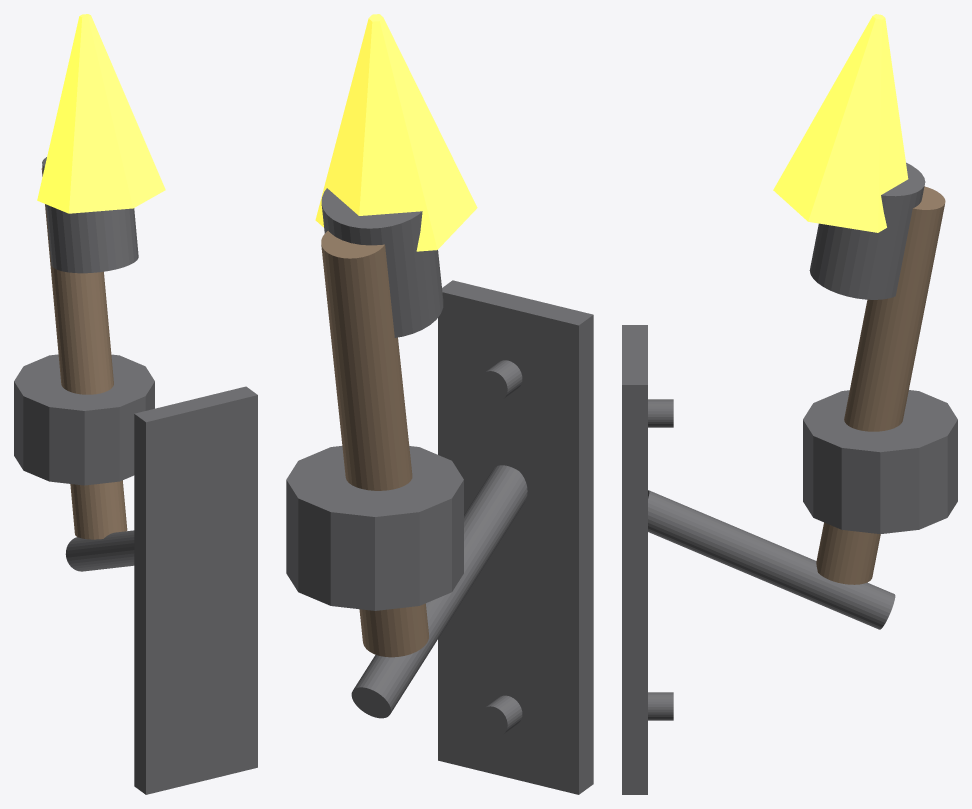
The model's file is wall_sconce.glb.
The picture shows the model from 3 angles, left to right: view 1: azimuth 30°, elevation 25°; view 2: azimuth 150°, elevation 25°; view 3: azimuth 270°, elevation 25°; orthographic projection. The views are drawn at different scales.
Parts seen in each view (by area): view 1: Cube, Cone, Cylinder.003, Cylinder.004, Cylinder.005, Cylinder.002; view 2: Cube, Cylinder.003, Cylinder.004, Cone, Cylinder.002, Cylinder.005, Cylinder, Cylinder.001; view 3: Cylinder.003, Cone, Cylinder.004, Cube, Cylinder.002, Cylinder.005, Cylinder, Cylinder.001.
Part boxes in pixels (x1,y1,x2,y2): Cube: (134, 386, 257, 794); Cone: (37, 14, 165, 213); Cylinder.003: (14, 354, 154, 485); Cylinder.004: (41, 167, 127, 539); Cylinder.005: (42, 157, 138, 273); Cylinder.002: (65, 530, 134, 571); Cube: (438, 280, 593, 794); Cylinder.003: (286, 446, 463, 610); Cylinder.004: (321, 231, 428, 657); Cone: (315, 14, 477, 251); Cylinder.002: (351, 465, 527, 718); Cylinder.005: (321, 188, 443, 337); Cylinder: (479, 695, 522, 736); Cylinder.001: (479, 360, 522, 401); Cylinder.003: (803, 390, 957, 534); Cone: (773, 14, 908, 232); Cylinder.004: (816, 186, 945, 584); Cube: (622, 325, 647, 794); Cylinder.002: (648, 490, 895, 629); Cylinder.005: (809, 162, 925, 299); Cylinder: (648, 692, 673, 720); Cylinder.001: (648, 399, 673, 427).
Size of the model in its own units: 0.24 by 1.28 by 0.52.
